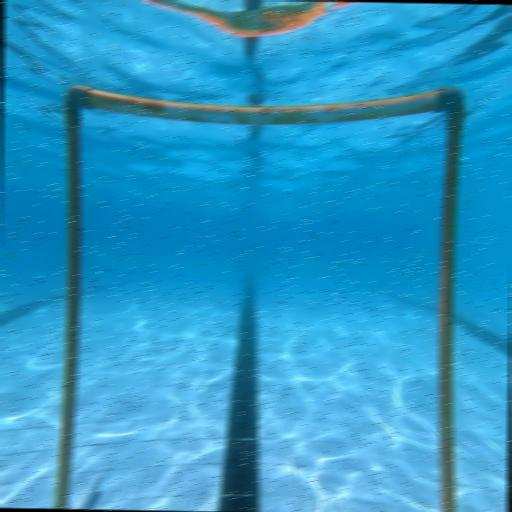gate: (53, 78, 465, 512)
